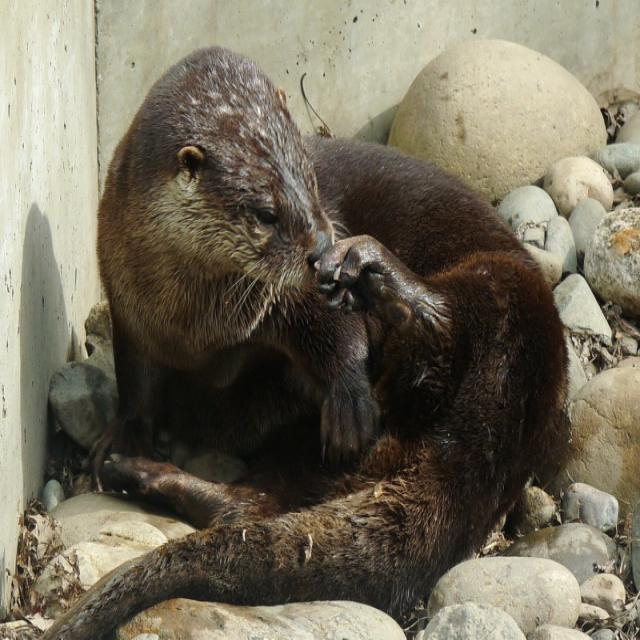otter: (102, 44, 567, 608)
